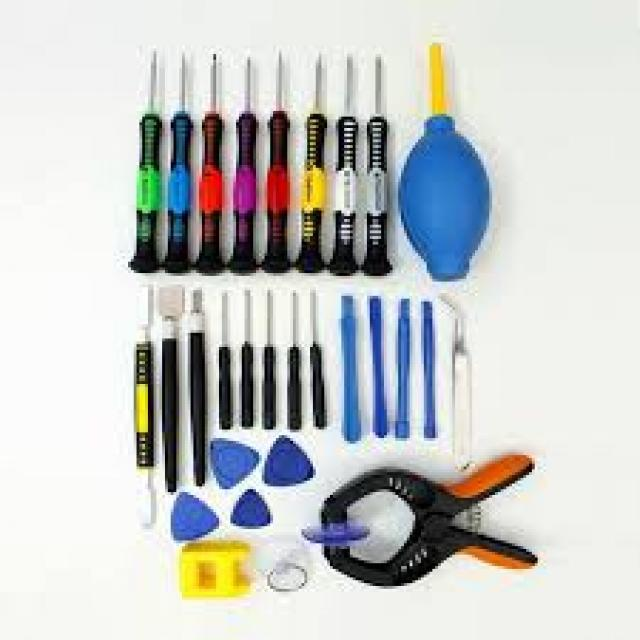screwdriver: (114, 46, 168, 282), (290, 50, 333, 278), (156, 47, 196, 280), (360, 46, 400, 278), (324, 48, 362, 279), (224, 48, 262, 279), (192, 47, 226, 280), (258, 48, 290, 276), (303, 288, 337, 436), (282, 287, 304, 438), (258, 283, 278, 437), (216, 287, 236, 435), (238, 282, 255, 432)
